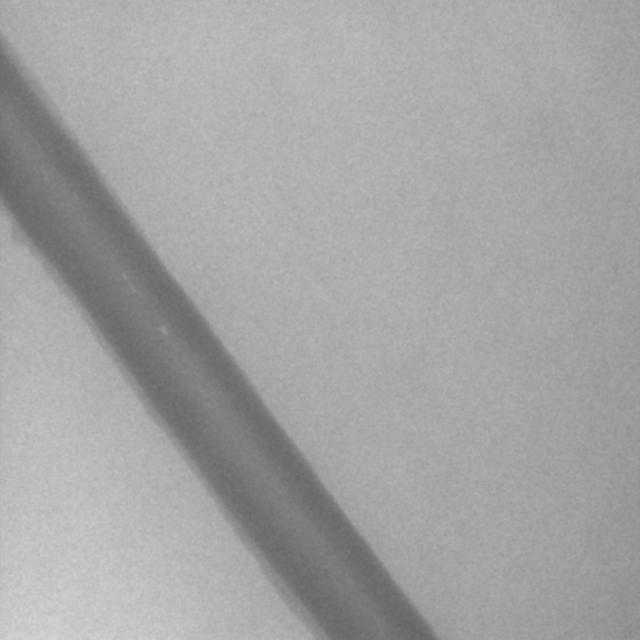air hole: (157, 322, 168, 337)
